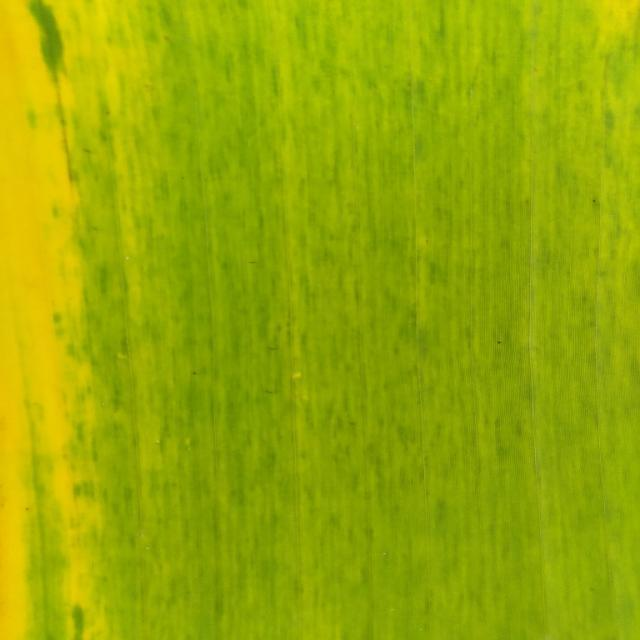Cordana: (0, 0, 439, 629)
